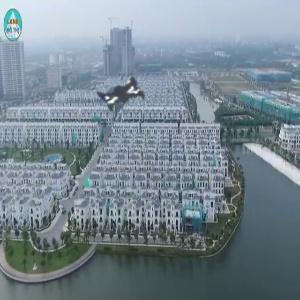drone: (63, 34, 179, 150)
